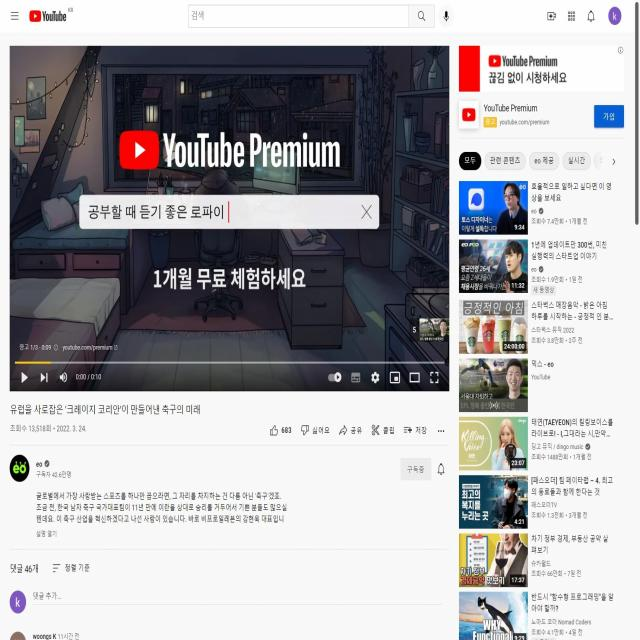button: (484, 150, 526, 172), (594, 103, 625, 129), (400, 458, 432, 480), (528, 151, 560, 172), (410, 3, 436, 28), (562, 152, 592, 172), (458, 150, 482, 172), (439, 4, 454, 28)
input: (80, 194, 379, 230), (188, 3, 409, 29)
